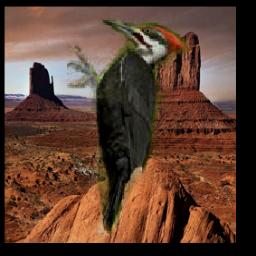Woodpecker: (67, 18, 188, 236)
